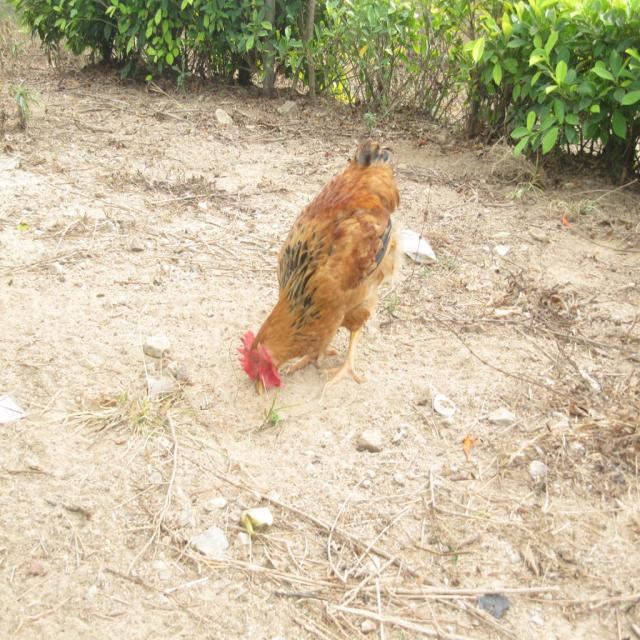Chicken: (241, 135, 398, 376)
